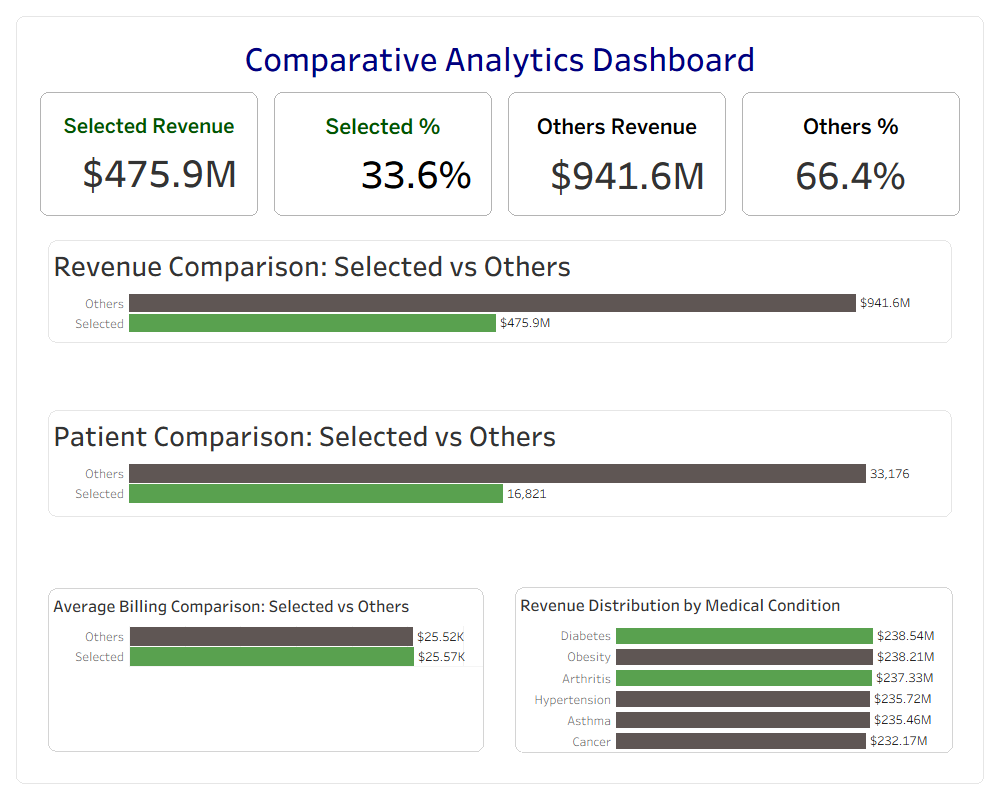

What the dashboard file says about the page in this screenshot:
{"tool":"tableau","page":{"name":"Comparative Analytics Dashboard","canvas":[1000,800],"ordinal":1},"visuals":[{"type":"text","box":[32,32,936,52]},{"type":"worksheet","title":"KPI_Selected_Revenue","mark":"Automatic","box":[32,84,234,140]},{"type":"worksheet","title":"KPI_Selected_Percent","mark":"Automatic","box":[266,84,234,140]},{"type":"worksheet","title":"KPI_Others_Revenue","mark":"Automatic","box":[500,84,234,140]},{"type":"worksheet","title":"KPI_Others_Percent","mark":"Automatic","box":[734,84,234,140]},{"type":"worksheet","title":"CH_Selected_vs_Others_Revenue","mark":"Automatic","rows":["Calculation_0255384151056384"],"cols":["billing_amount"],"box":[32,224,936,135]},{"type":"blank","box":[32,359,936,35]},{"type":"worksheet","title":"CH_Selected_vs_Others_Patient_Count","mark":"Bar","rows":["Calculation_0255384151056384"],"cols":["patient_name"],"box":[32,394,936,139]},{"type":"blank","box":[32,533,936,39]},{"type":"worksheet","title":"CH_Selected_vs_Others_Average_Billing","mark":"Automatic","rows":["Calculation_0255384151056384"],"cols":["billing_amount"],"box":[32,572,468,165]},{"type":"worksheet","title":"CH_Revenue_Distribution_By_Condition_Final","mark":"Automatic","rows":["medical_condition"],"cols":["billing_amount"],"box":[500,572,468,165]}]}

Visuals, with their boxes in screenshot pixels (x1, y1, x2, y2), scaled from the page's 1000x800 canvas onto the 1000x800 screenshot:
text: box(32, 32, 968, 84)
"KPI_Selected_Revenue" worksheet: box(32, 84, 266, 224)
"KPI_Selected_Percent" worksheet: box(266, 84, 500, 224)
"KPI_Others_Revenue" worksheet: box(500, 84, 734, 224)
"KPI_Others_Percent" worksheet: box(734, 84, 968, 224)
"CH_Selected_vs_Others_Revenue" worksheet: box(32, 224, 968, 359)
blank: box(32, 359, 968, 394)
"CH_Selected_vs_Others_Patient_Count" worksheet (Bar marks): box(32, 394, 968, 533)
blank: box(32, 533, 968, 572)
"CH_Selected_vs_Others_Average_Billing" worksheet: box(32, 572, 500, 737)
"CH_Revenue_Distribution_By_Condition_Final" worksheet: box(500, 572, 968, 737)
